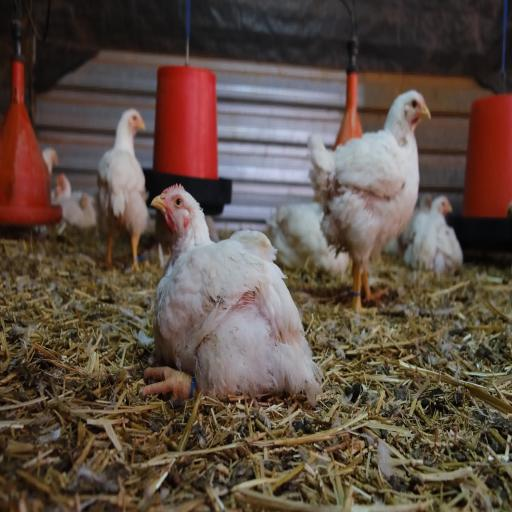healthy: (144, 171, 199, 234), (400, 86, 439, 138), (115, 97, 151, 141)
